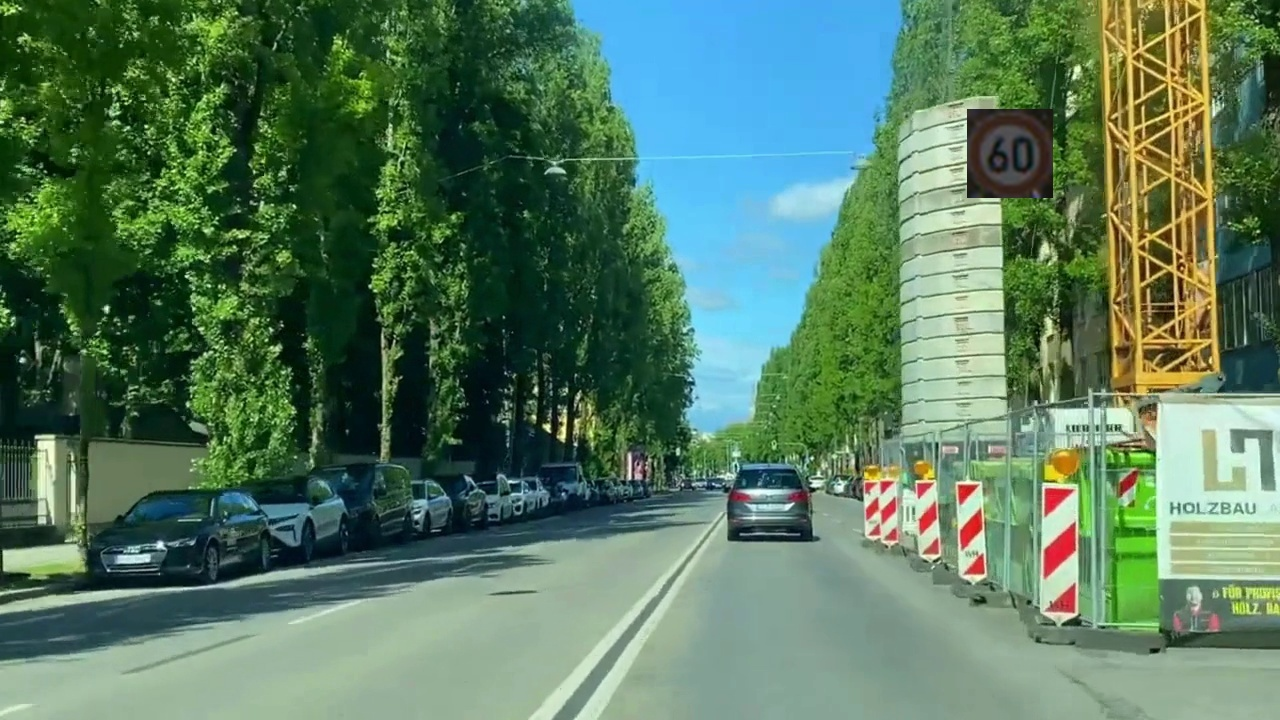Speed 60: (967, 109, 1053, 198)
